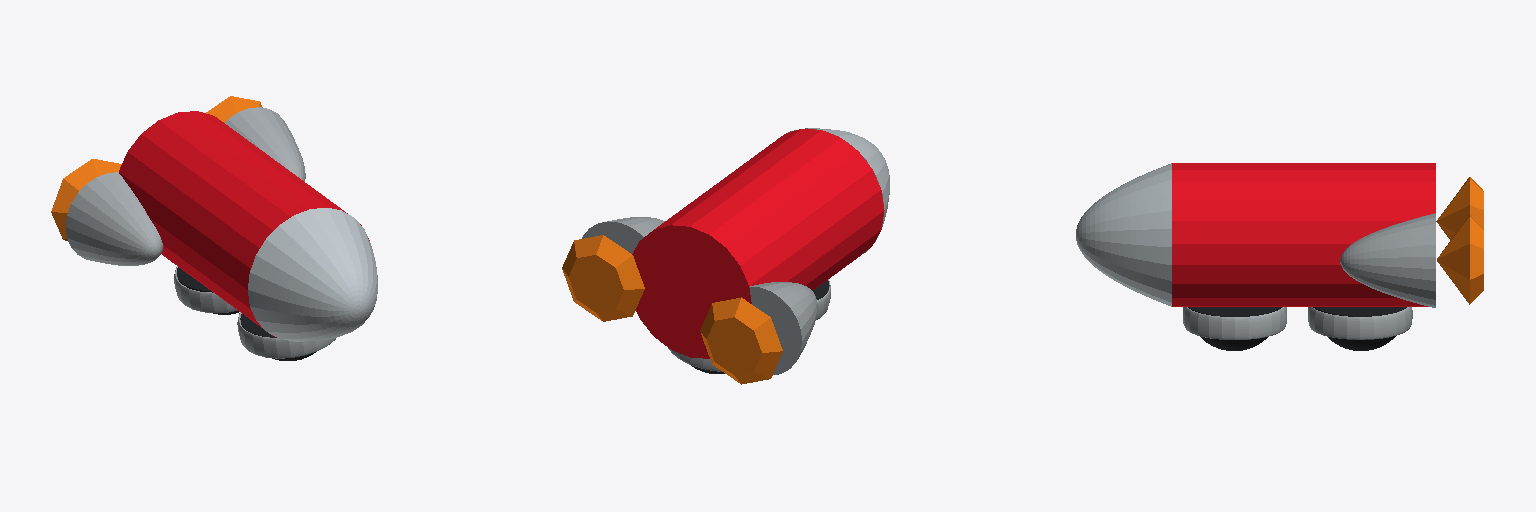
File: tinker.obj
3 renders of one model, left to right at view 1: azimuth 30°, elevation 25°; view 2: azimuth 150°, elevation 25°; view 3: azimuth 270°, elevation 25°, orthographic.
Visible parts, largest first — view 1: obj_0; view 2: obj_0; view 3: obj_0.
Part boxes in pixels (x1,y1,x2,y2): obj_0: (51, 96, 377, 360); obj_0: (562, 128, 889, 384); obj_0: (1076, 163, 1483, 350).
Size of the model in its own units: 54 by 39.66 by 85.